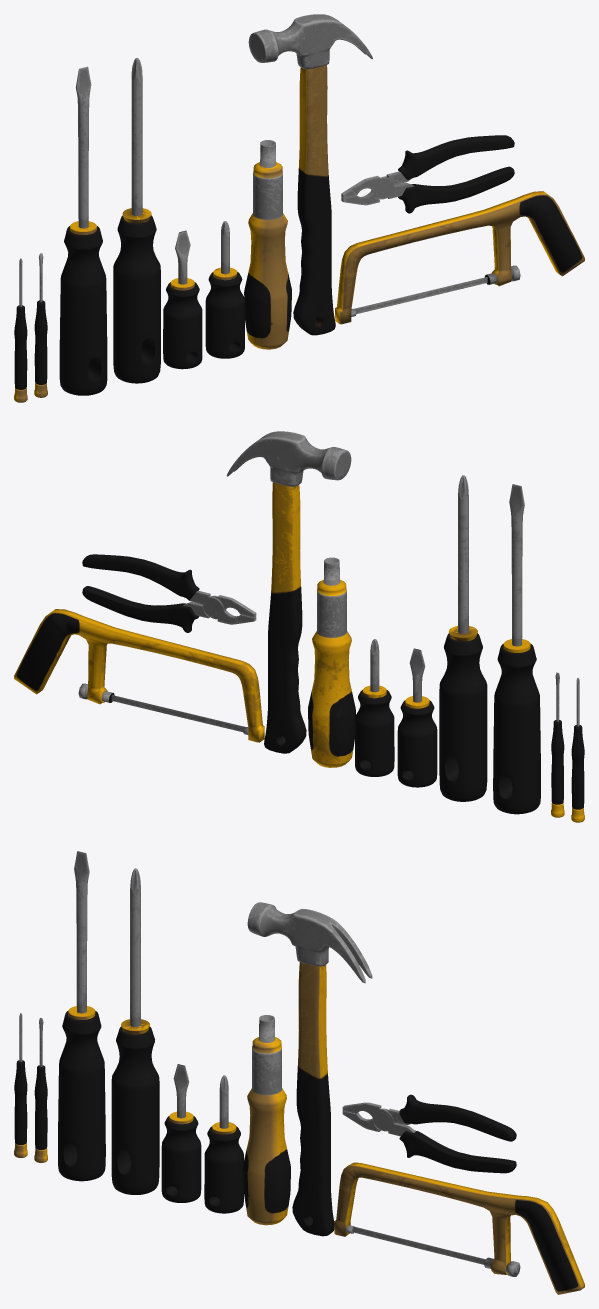
The model's file is toolset.fbx.
3 renders of one model, top to bottom at view 1: azimuth 30°, elevation 25°; view 2: azimuth 150°, elevation 25°; view 3: azimuth 330°, elevation 25°, orthographic.
Parts seen in each view (by area): view 1: Hammer_low, SD cross L_low, SD Flat L_low, Saw01_low, driver_low, Pliers_low, SD Flat_low, SD cross_low, SD Flat S_low, SD cross S_low; view 2: Hammer_low, SD Flat L_low, SD cross L_low, Saw01_low, driver_low, Pliers_low, SD Flat_low, SD cross_low, SD Flat S_low, SD cross S_low; view 3: Hammer_low, SD Flat L_low, SD cross L_low, Saw01_low, driver_low, Pliers_low, SD Flat_low, SD cross_low, SD Flat S_low, SD cross S_low.
Boxes of the visible parts, bbox=[...] form: Hammer_low: bbox=[248, 14, 372, 335]; SD cross L_low: bbox=[113, 58, 160, 383]; SD Flat L_low: bbox=[59, 66, 107, 395]; Saw01_low: bbox=[335, 191, 584, 324]; driver_low: bbox=[244, 140, 291, 349]; Pliers_low: bbox=[341, 135, 514, 213]; SD Flat_low: bbox=[163, 230, 202, 369]; SD cross_low: bbox=[205, 221, 244, 358]; SD Flat S_low: bbox=[34, 253, 47, 397]; SD cross S_low: bbox=[14, 258, 27, 402]; Hammer_low: bbox=[226, 431, 351, 753]; SD Flat L_low: bbox=[493, 484, 540, 814]; SD cross L_low: bbox=[439, 475, 487, 801]; Saw01_low: bbox=[14, 609, 264, 742]; driver_low: bbox=[308, 557, 355, 767]; Pliers_low: bbox=[82, 554, 256, 632]; SD Flat_low: bbox=[397, 648, 437, 787]; SD cross_low: bbox=[355, 639, 394, 776]; SD Flat S_low: bbox=[551, 672, 564, 817]; SD cross S_low: bbox=[571, 677, 584, 822]; Hammer_low: bbox=[247, 902, 372, 1236]; SD Flat L_low: bbox=[58, 851, 105, 1181]; SD cross L_low: bbox=[111, 868, 159, 1194]; Saw01_low: bbox=[334, 1162, 584, 1294]; driver_low: bbox=[243, 1015, 290, 1225]; Pliers_low: bbox=[342, 1094, 516, 1173]; SD Flat_low: bbox=[161, 1064, 201, 1202]; SD cross_low: bbox=[204, 1075, 243, 1213]; SD Flat S_low: bbox=[34, 1017, 47, 1162]; SD cross S_low: bbox=[14, 1013, 27, 1157].
Bounding box in the file's own units: 191 × 104 × 14.14.
